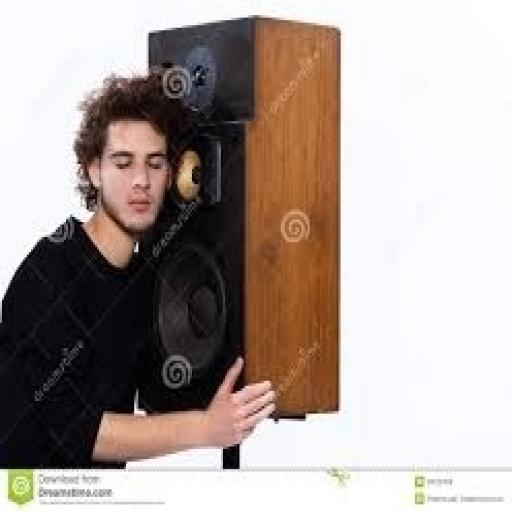listening_to_music: (0, 66, 277, 469)
